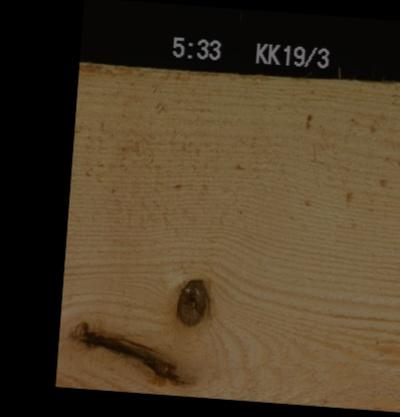dry_knot: (174, 276, 209, 327)
